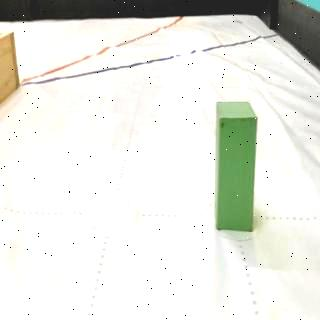greenbox: (214, 101, 260, 231)
